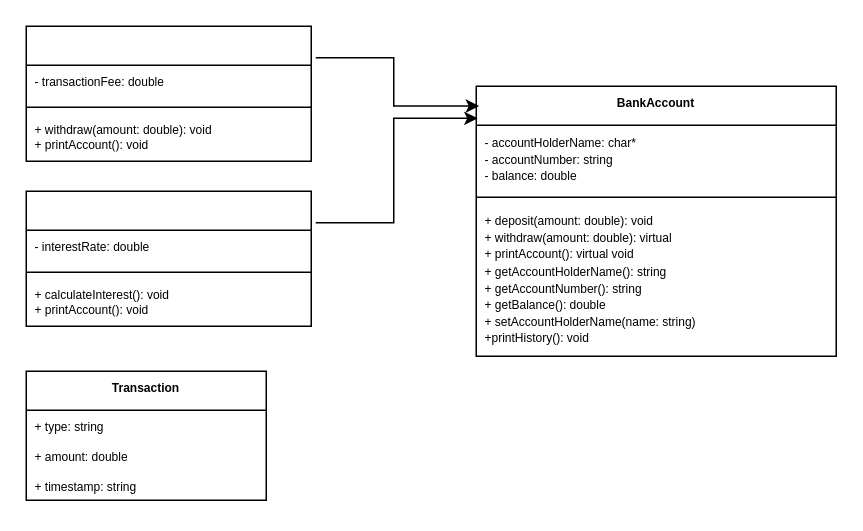
This 863x531 diagram has some shape labels left out. The box of each missing label's shape, as (x1, y1, x2, y2) in pixels:
CheckingAccount: (25, 25, 311, 161)
SavingAccount: (25, 190, 311, 326)
